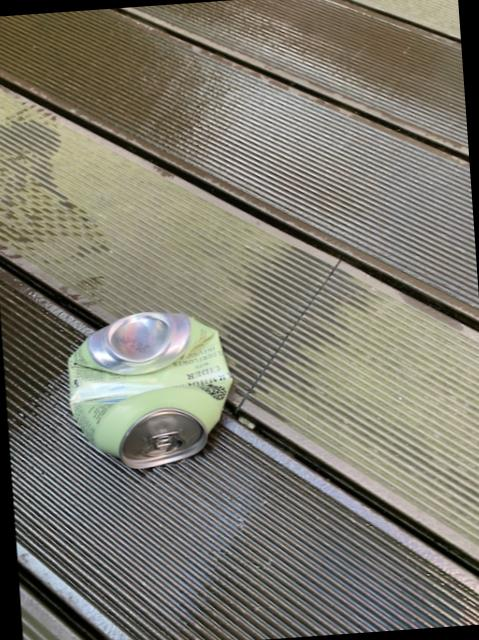metal: (67, 312, 230, 468)
